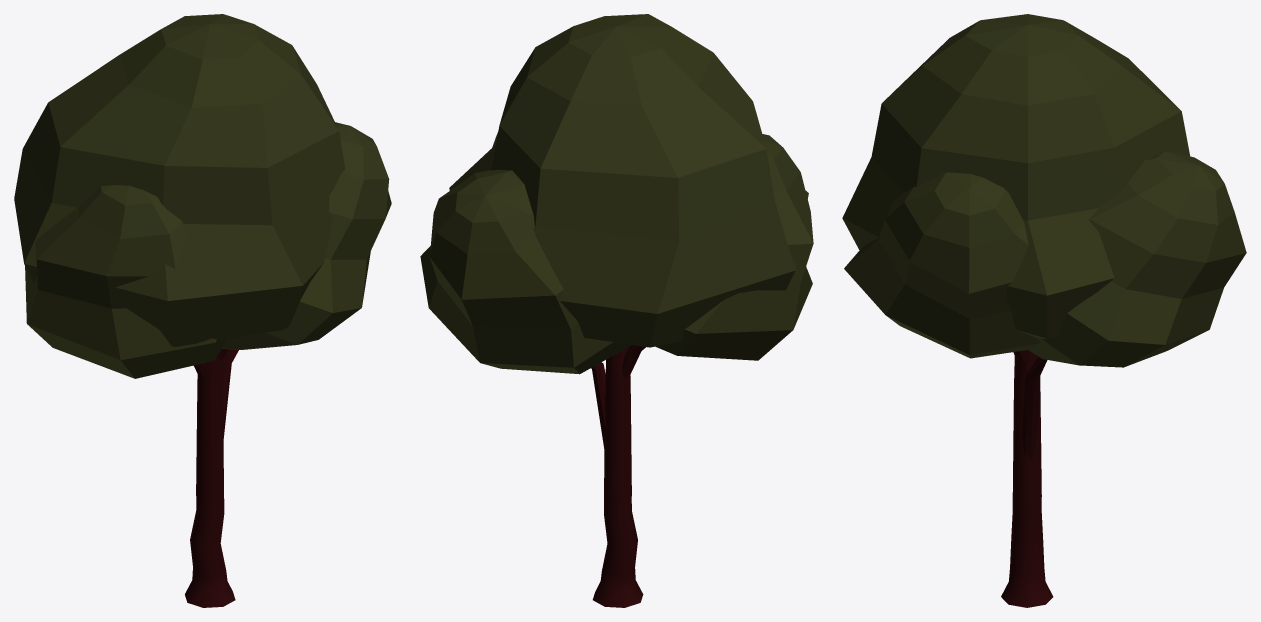
The picture shows the model from 3 angles, left to right: view 1: azimuth 30°, elevation 25°; view 2: azimuth 150°, elevation 25°; view 3: azimuth 270°, elevation 25°; orthographic projection.
Visible parts, largest first — view 1: SM_BO_Tree_02_LOD0; view 2: SM_BO_Tree_02_LOD0; view 3: SM_BO_Tree_02_LOD0.
Part boxes in pixels (<box>): SM_BO_Tree_02_LOD0: <box>14,14,391,607</box>; SM_BO_Tree_02_LOD0: <box>420,14,813,607</box>; SM_BO_Tree_02_LOD0: <box>842,14,1246,607</box>.
Size of the model in its own units: 10.04 by 15.99 by 10.24.
